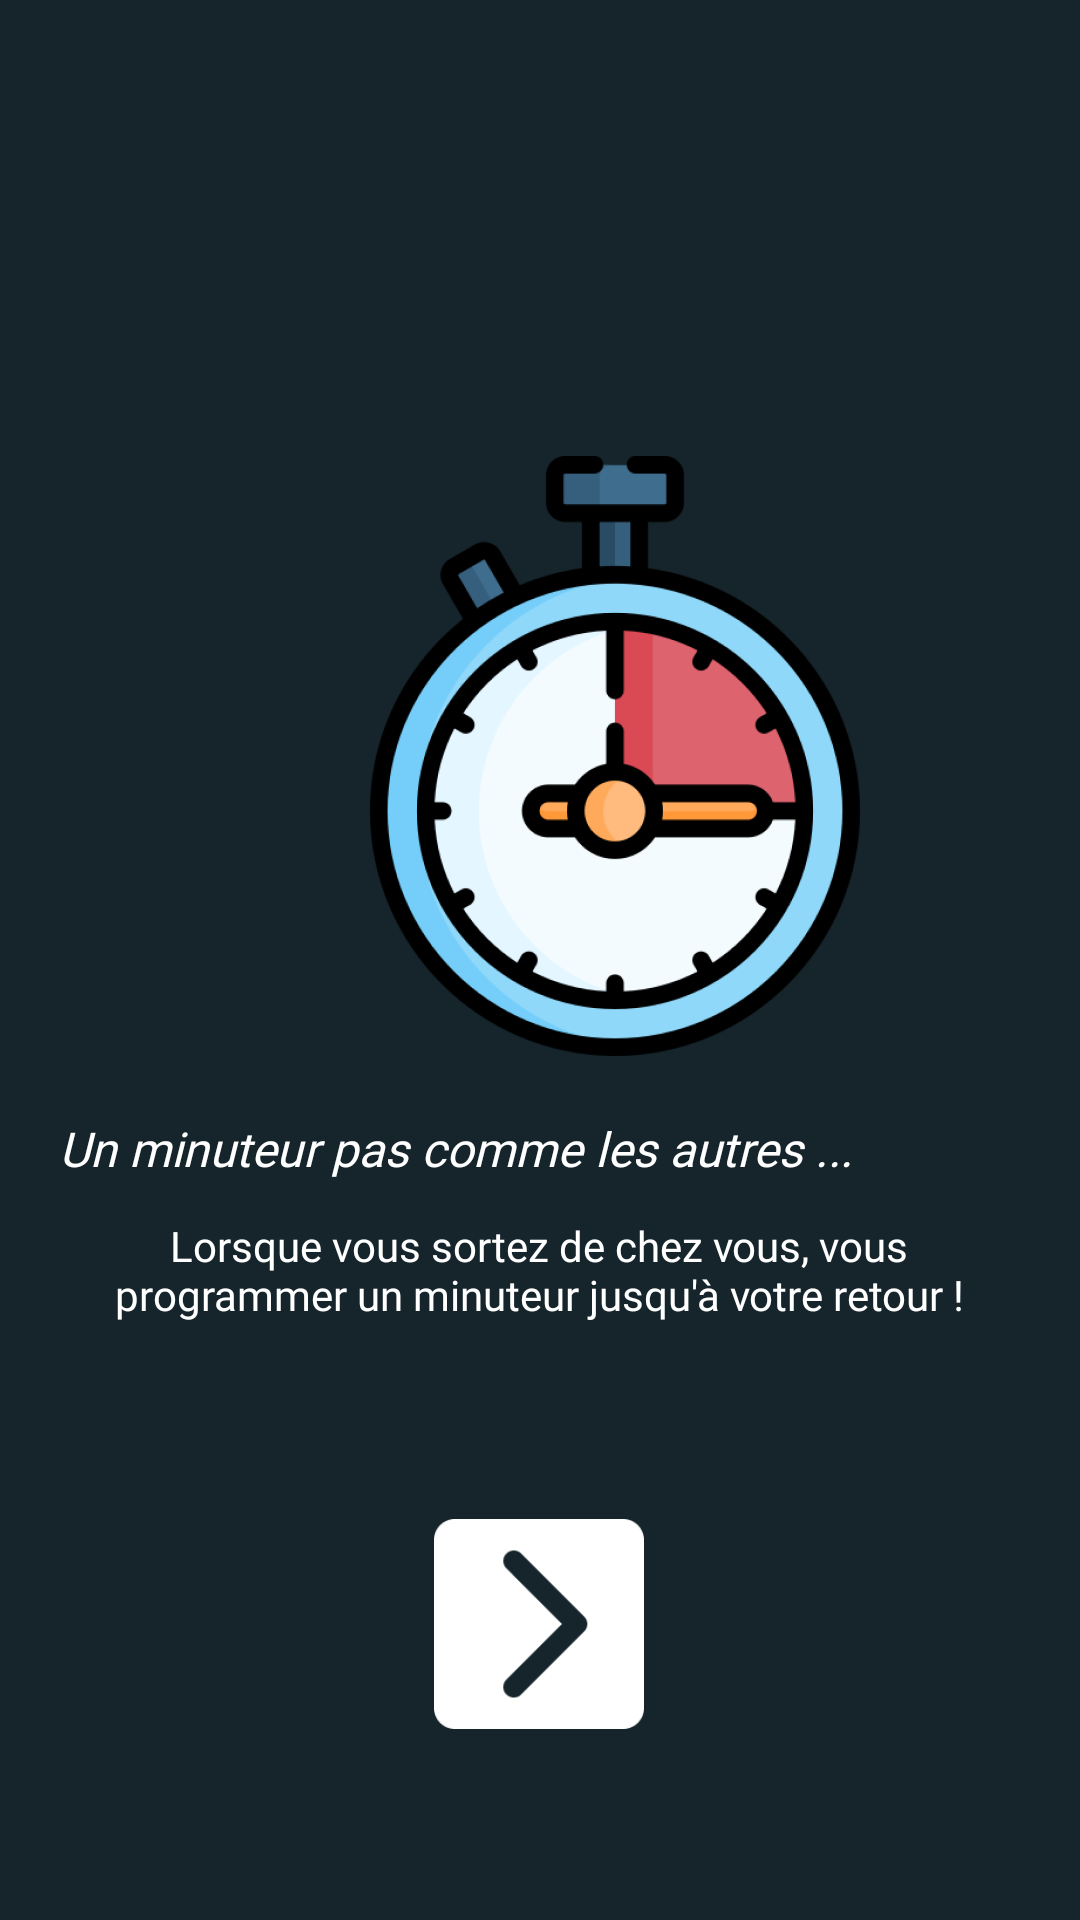

Named icons in this screenshot (1080x1920) and their centers, point (x, y):
fleche tuto: point (539, 1624)
